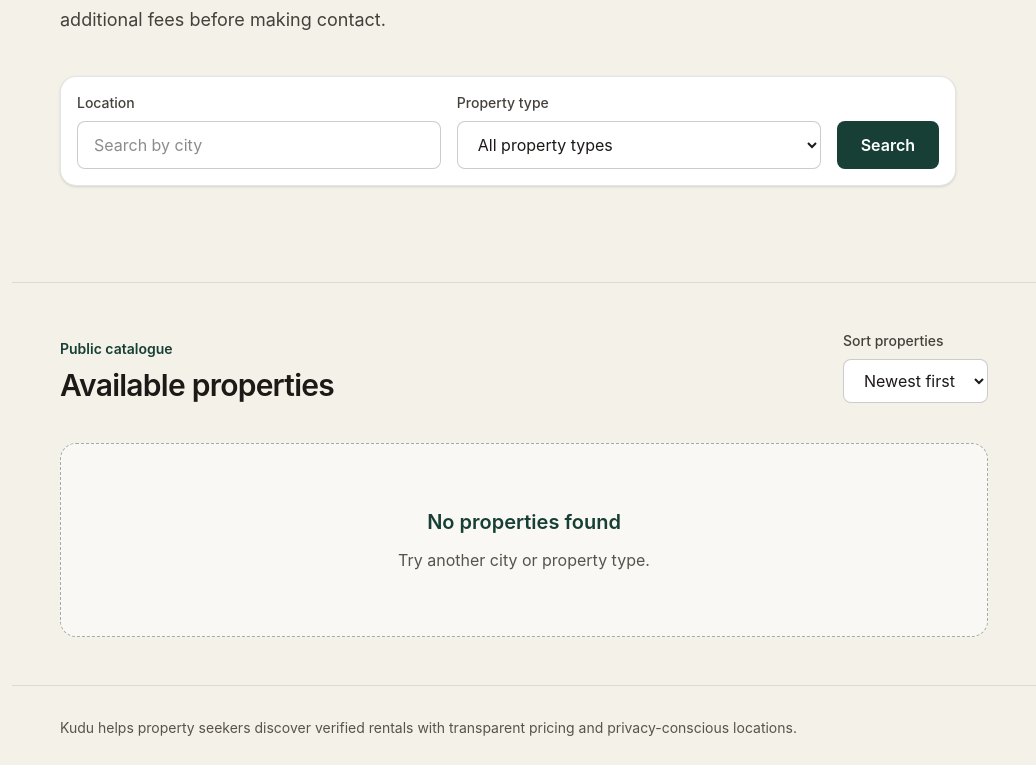
Test: PropertyCataloguePage › reloads the catalogue when the visitor changes sorting
The image size is (1036, 765).
(page scrolled)
Check: the heading "No properties found" is shown, box x1=427 y1=510 x2=621 y2=534
Select "Oldest first" in the dropdown labelled "Sort properties". click: (916, 381)
box: x1=843 y1=359 x2=988 y2=403
(page scrolled)
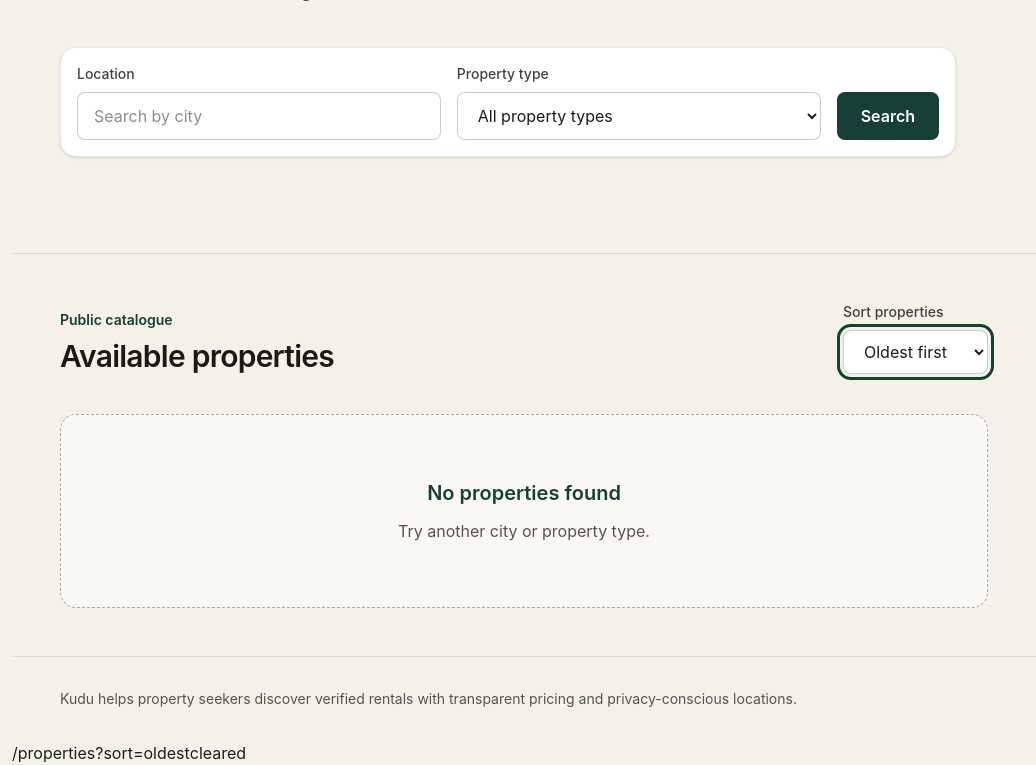
Check: the text with test id "current-location" reads "/properties?sort=oldest", box x1=12 y1=743 x2=190 y2=763
